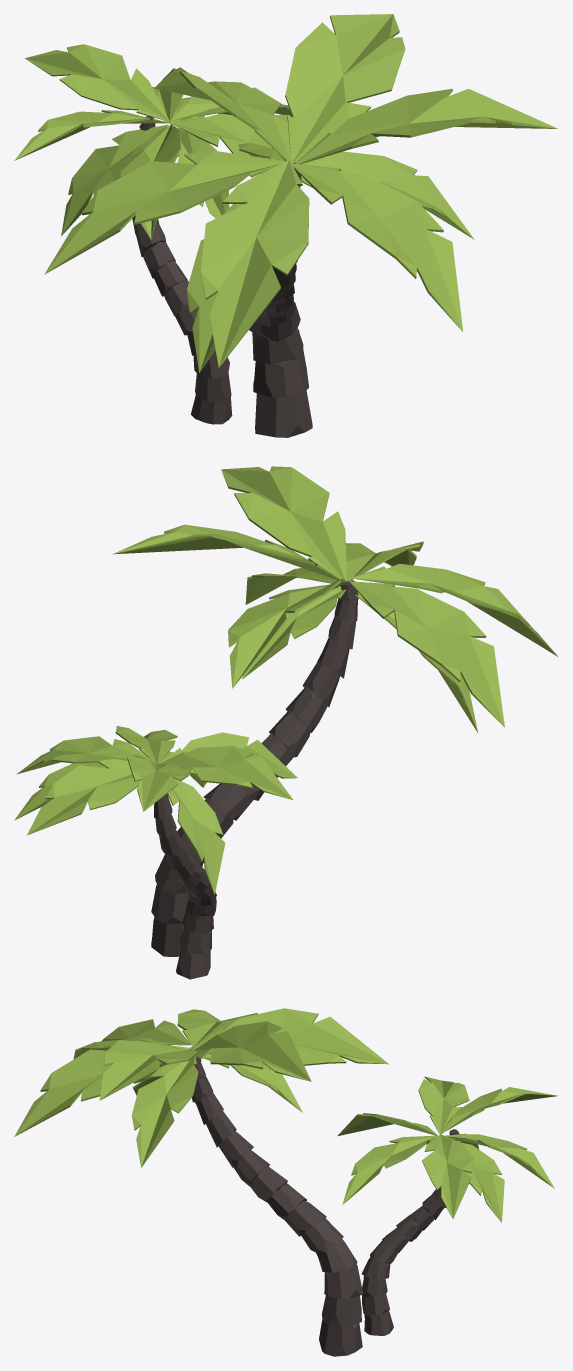
The model's file is Palm_Duo.fbx.
3 views of the same model, one above another, from view 1: azimuth 30°, elevation 25°; view 2: azimuth 150°, elevation 25°; view 3: azimuth 270°, elevation 25° (orthographic). The views are drawn at different scales.
Parts seen in each view (by area): view 1: Palm_Duo; view 2: Palm_Duo; view 3: Palm_Duo.
Part boxes in pixels (x1,y1,x2,y2): Palm_Duo: [14, 14, 558, 437]; Palm_Duo: [14, 466, 557, 979]; Palm_Duo: [14, 1008, 557, 1356].
Size of the model in its own units: 3.26 by 3.25 by 4.99.
